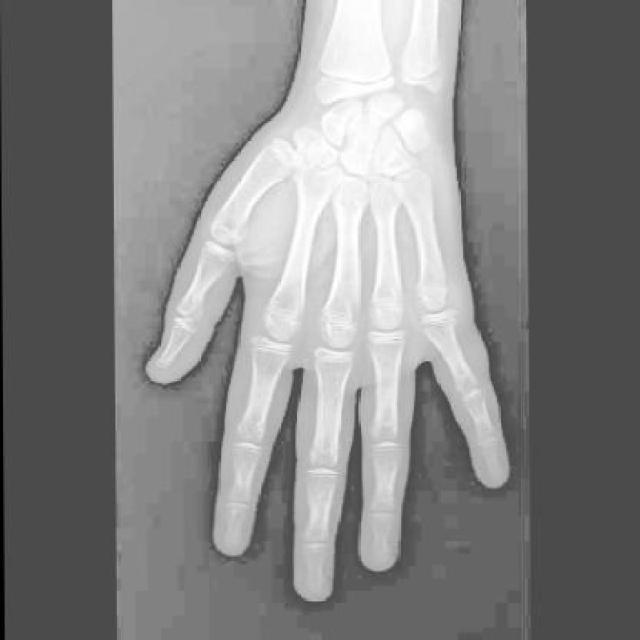Fracture: (423, 318, 460, 340)
